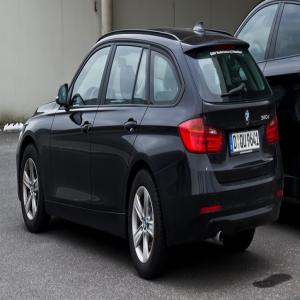Vehicle-registration-plate: (235, 119, 252, 170)
